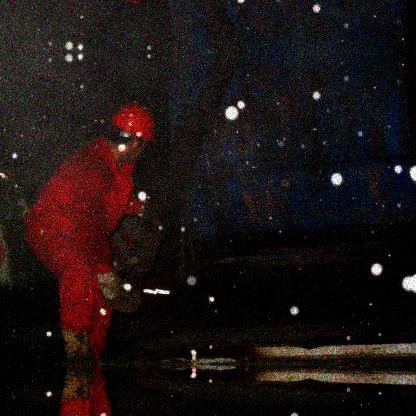helmet: (106, 101, 158, 163)
